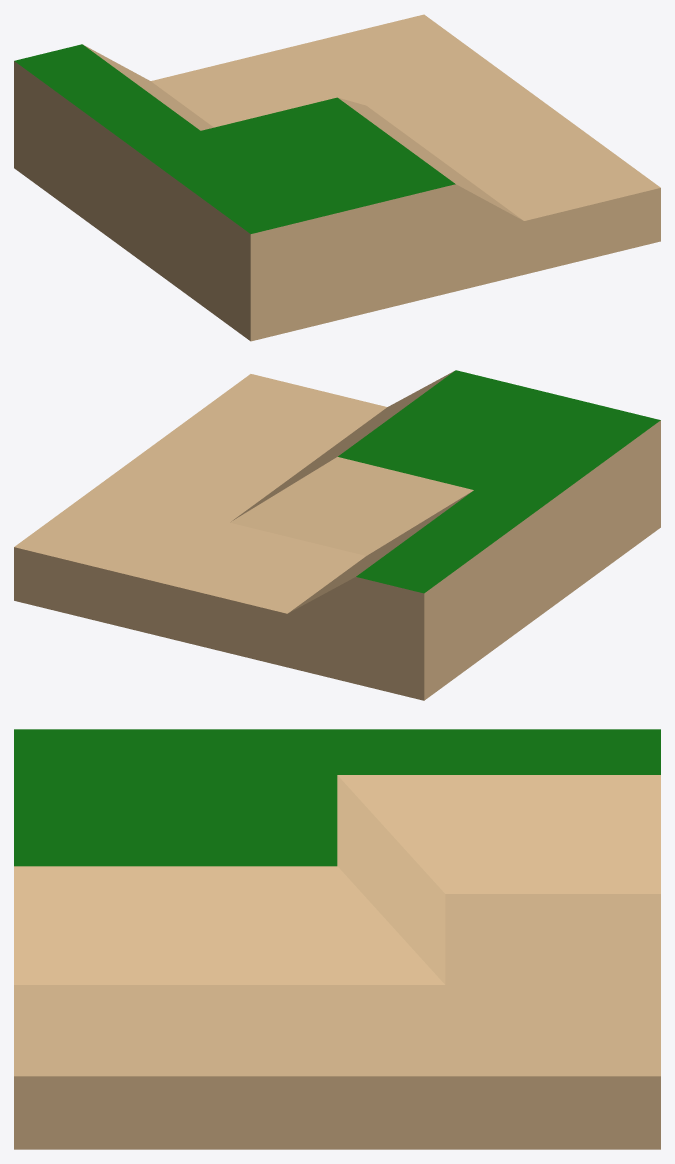
The model's file is tile_extra_wide_extrude_2.glb.
The picture shows the model from 3 angles, top to bottom: view 1: azimuth 30°, elevation 25°; view 2: azimuth 150°, elevation 25°; view 3: azimuth 270°, elevation 25°; orthographic projection. The views are drawn at different scales.
Visible parts, largest first — view 1: Plane.018; view 2: Plane.018; view 3: Plane.018.
Part boxes in pixels (x1,y1,x2,y2): Plane.018: [14, 14, 660, 341]; Plane.018: [14, 370, 660, 700]; Plane.018: [14, 729, 660, 1149].
Size of the model in its own units: 2 by 0.5 by 2.
